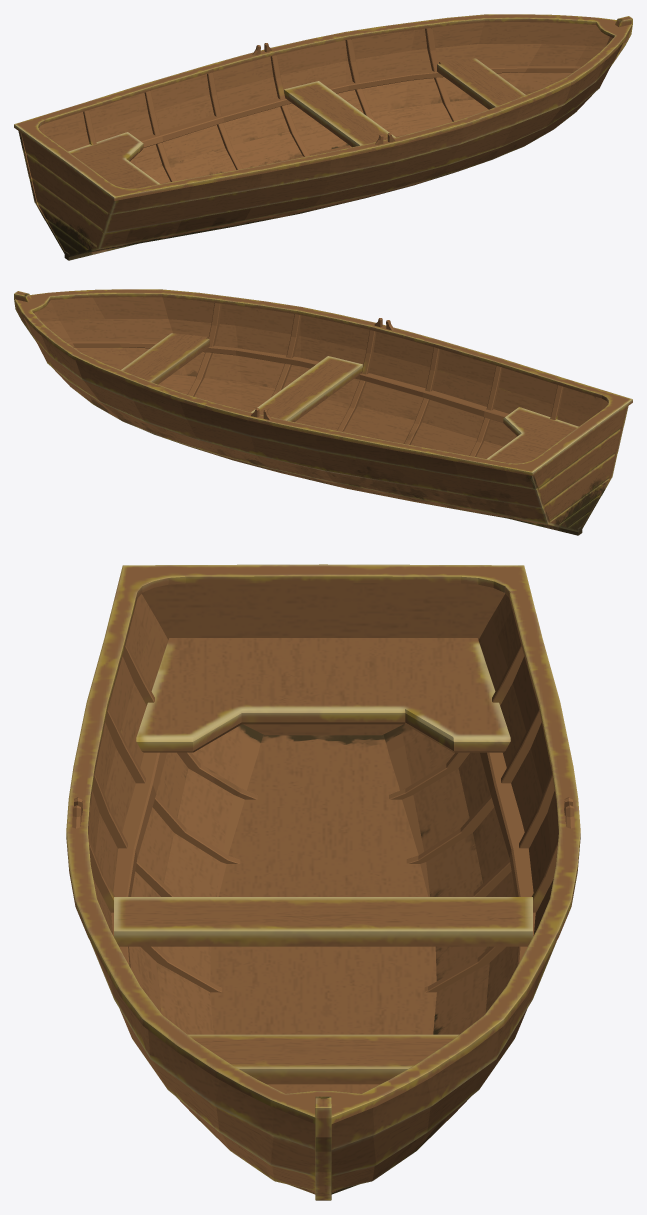
Rendered from Boat.fbx.
The picture shows the model from 3 angles, top to bottom: view 1: azimuth 30°, elevation 25°; view 2: azimuth 150°, elevation 25°; view 3: azimuth 270°, elevation 25°; orthographic projection. The views are drawn at different scales.
Visible parts, largest first — view 1: Boat; view 2: Boat; view 3: Boat.
Part boxes in pixels (left/top/right/bottom): Boat: left=14, top=14, right=632, bottom=260; Boat: left=14, top=289, right=632, bottom=535; Boat: left=66, top=564, right=580, bottom=1200.
Bounding box in the file's own units: 64745 × 11755 × 25441.
